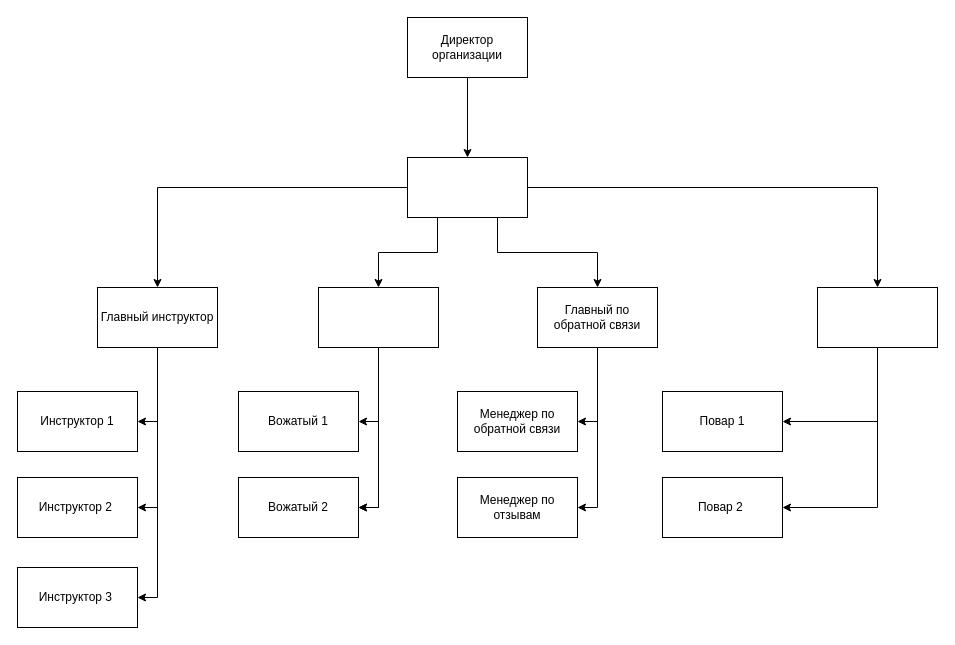
This 955x645 diagram has some shape labels left out. The centre of each missing label's shape, as x and y in pixels:
Директор лагеря: (x=467, y=187)
Старший вожатый: (x=378, y=317)
Шеф-повар: (x=877, y=317)
